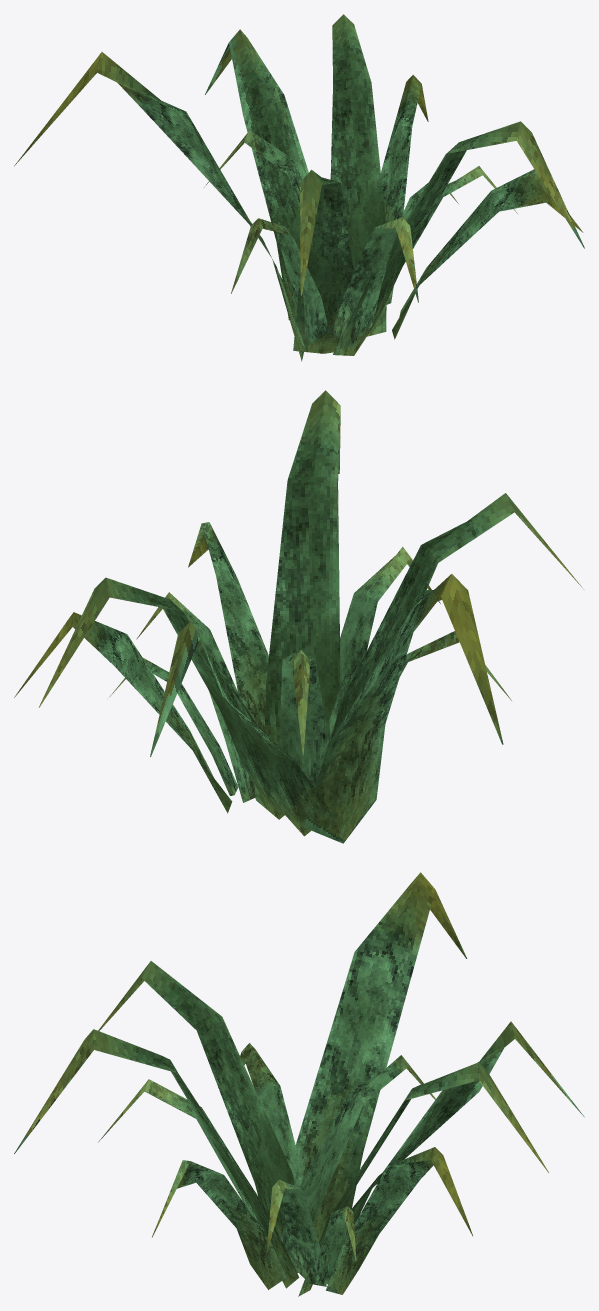
The model's file is grass_02.glb.
The picture shows the model from 3 angles, top to bottom: view 1: azimuth 30°, elevation 25°; view 2: azimuth 150°, elevation 25°; view 3: azimuth 270°, elevation 25°; orthographic projection. The views are drawn at different scales.
Visible parts, largest first — view 1: GRASS_02; view 2: GRASS_02; view 3: GRASS_02.
Boxes of the visible parts, box(x1,y1,x2,y2) form: GRASS_02: box(14, 14, 584, 361); GRASS_02: box(14, 390, 583, 843); GRASS_02: box(14, 872, 584, 1296).
Bounding box in the file's own units: 1.56 × 1.09 × 1.74.
1 material, 1 textured.
